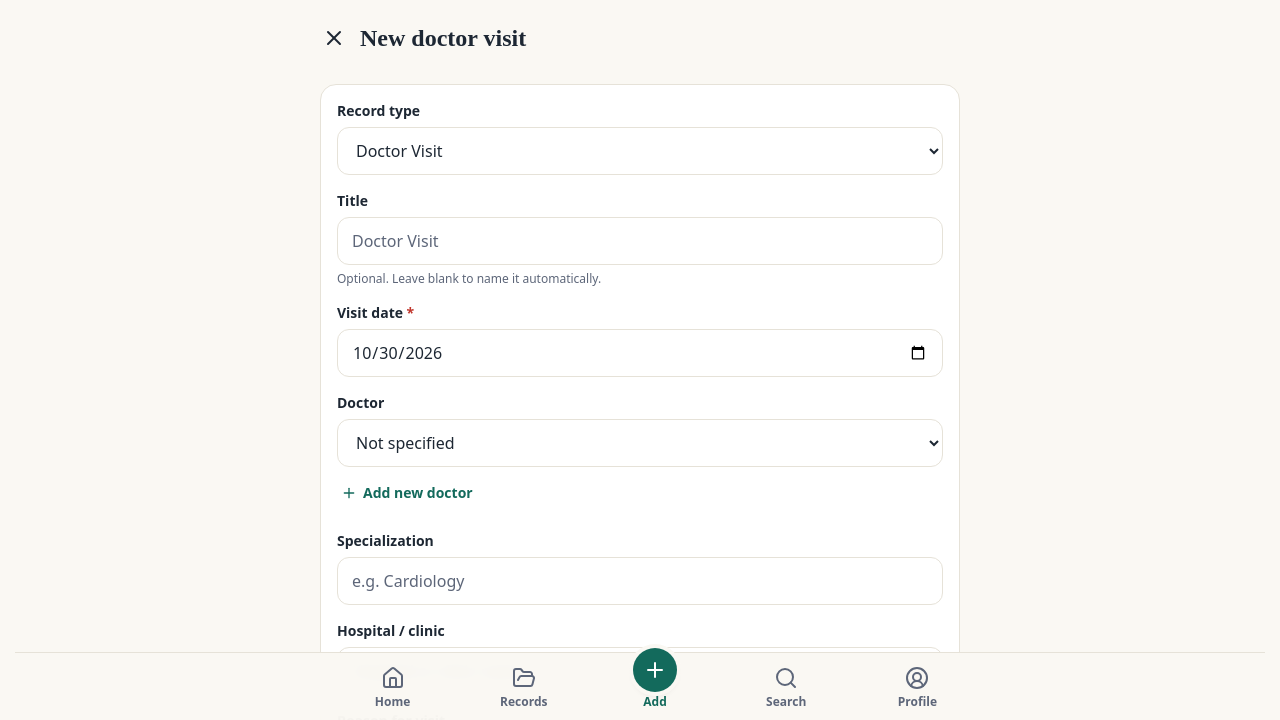
Test: record type › lets a suggestion be dismissed
Type "CBC" into the field labelled "Title" at [640, 241], box [337,217,943,265]
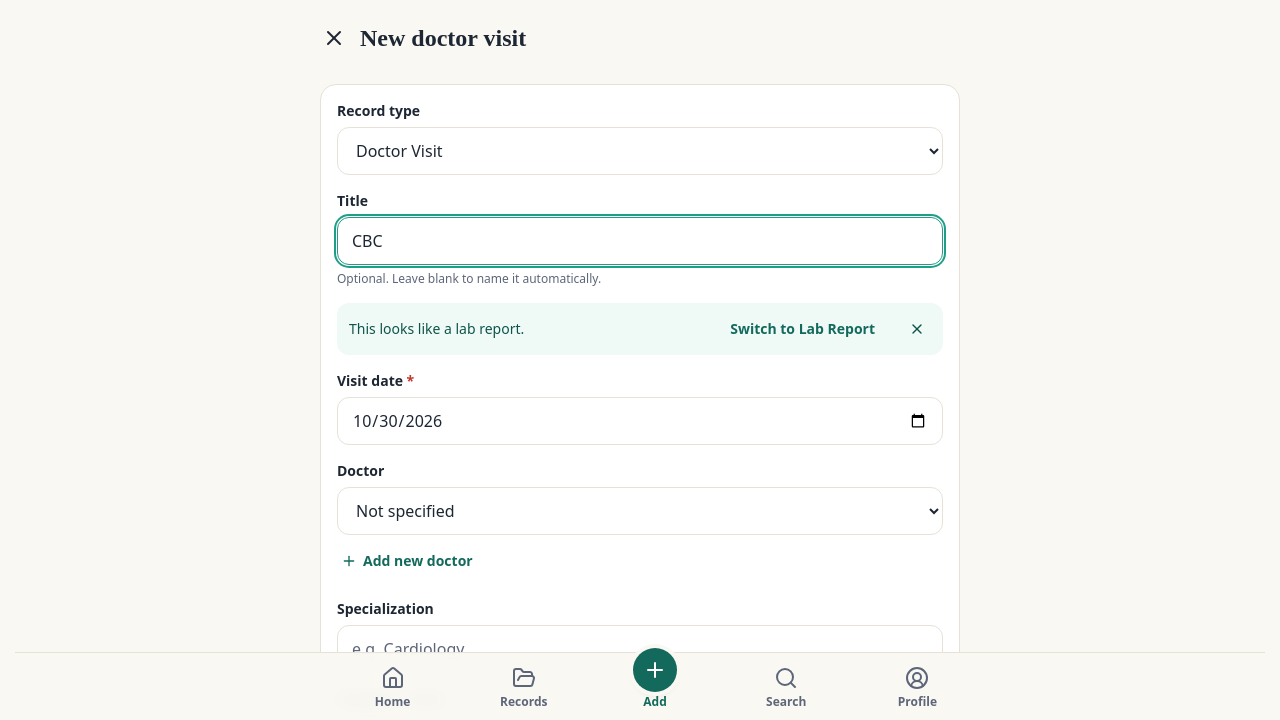
Click the button named "Dismiss suggestion" at [917, 329], box [895,307,939,351]
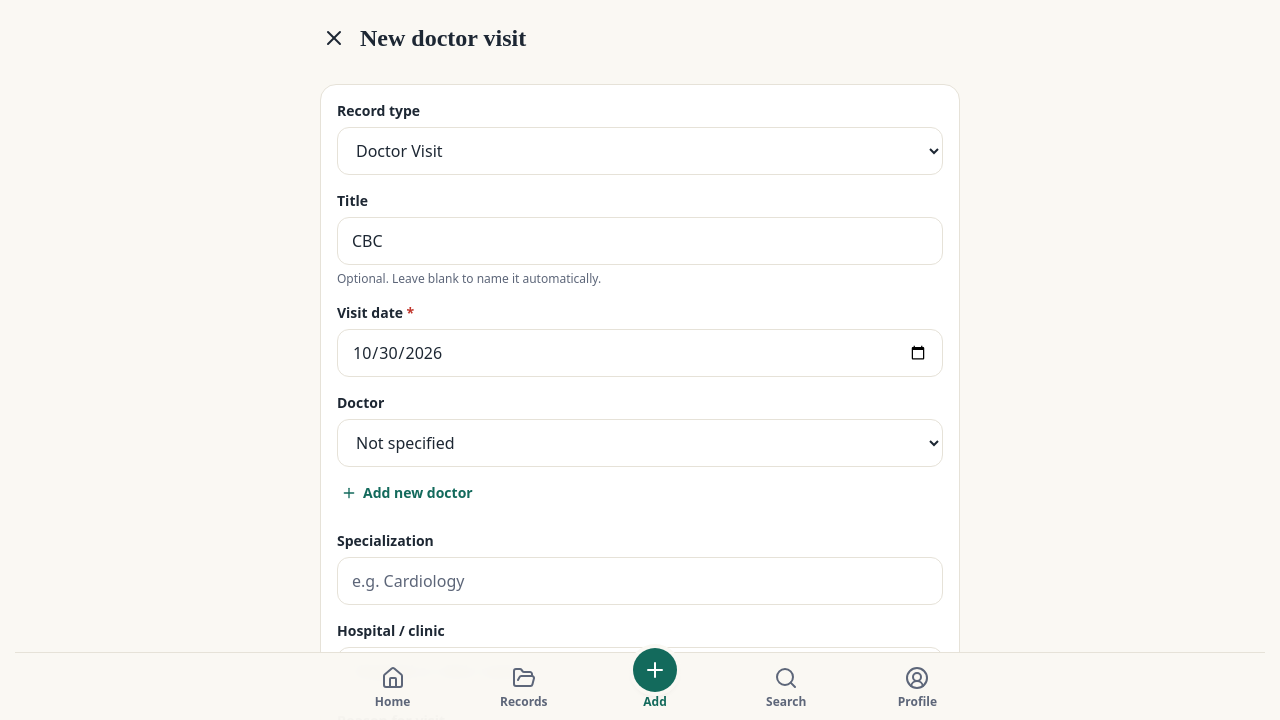
Expected: the dropdown labelled "Record type" shows "Doctor Visit", [337,127,943,175]
Expected: the text "looks like" is gone
